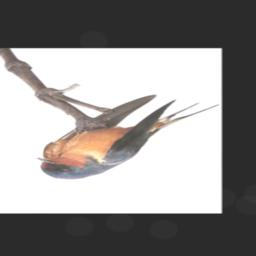Swallow: (36, 95, 218, 180)
